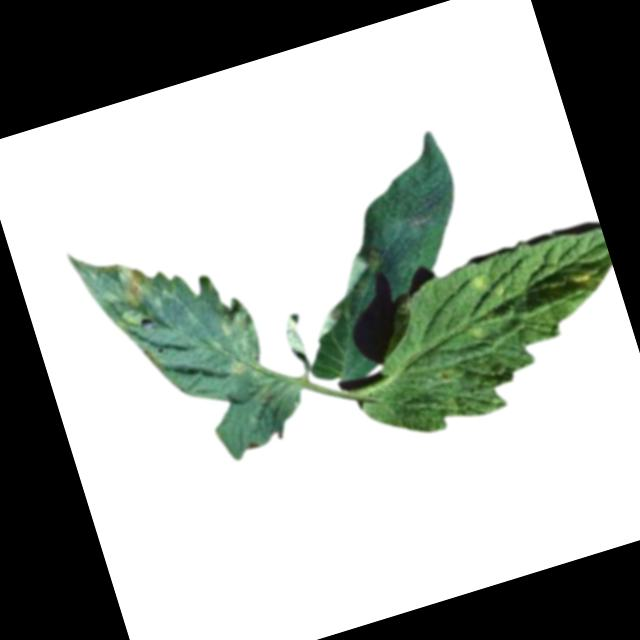Leaf_Mold: (298, 248, 395, 338), (206, 298, 270, 381), (100, 256, 157, 329), (465, 264, 511, 306), (562, 262, 595, 296)
